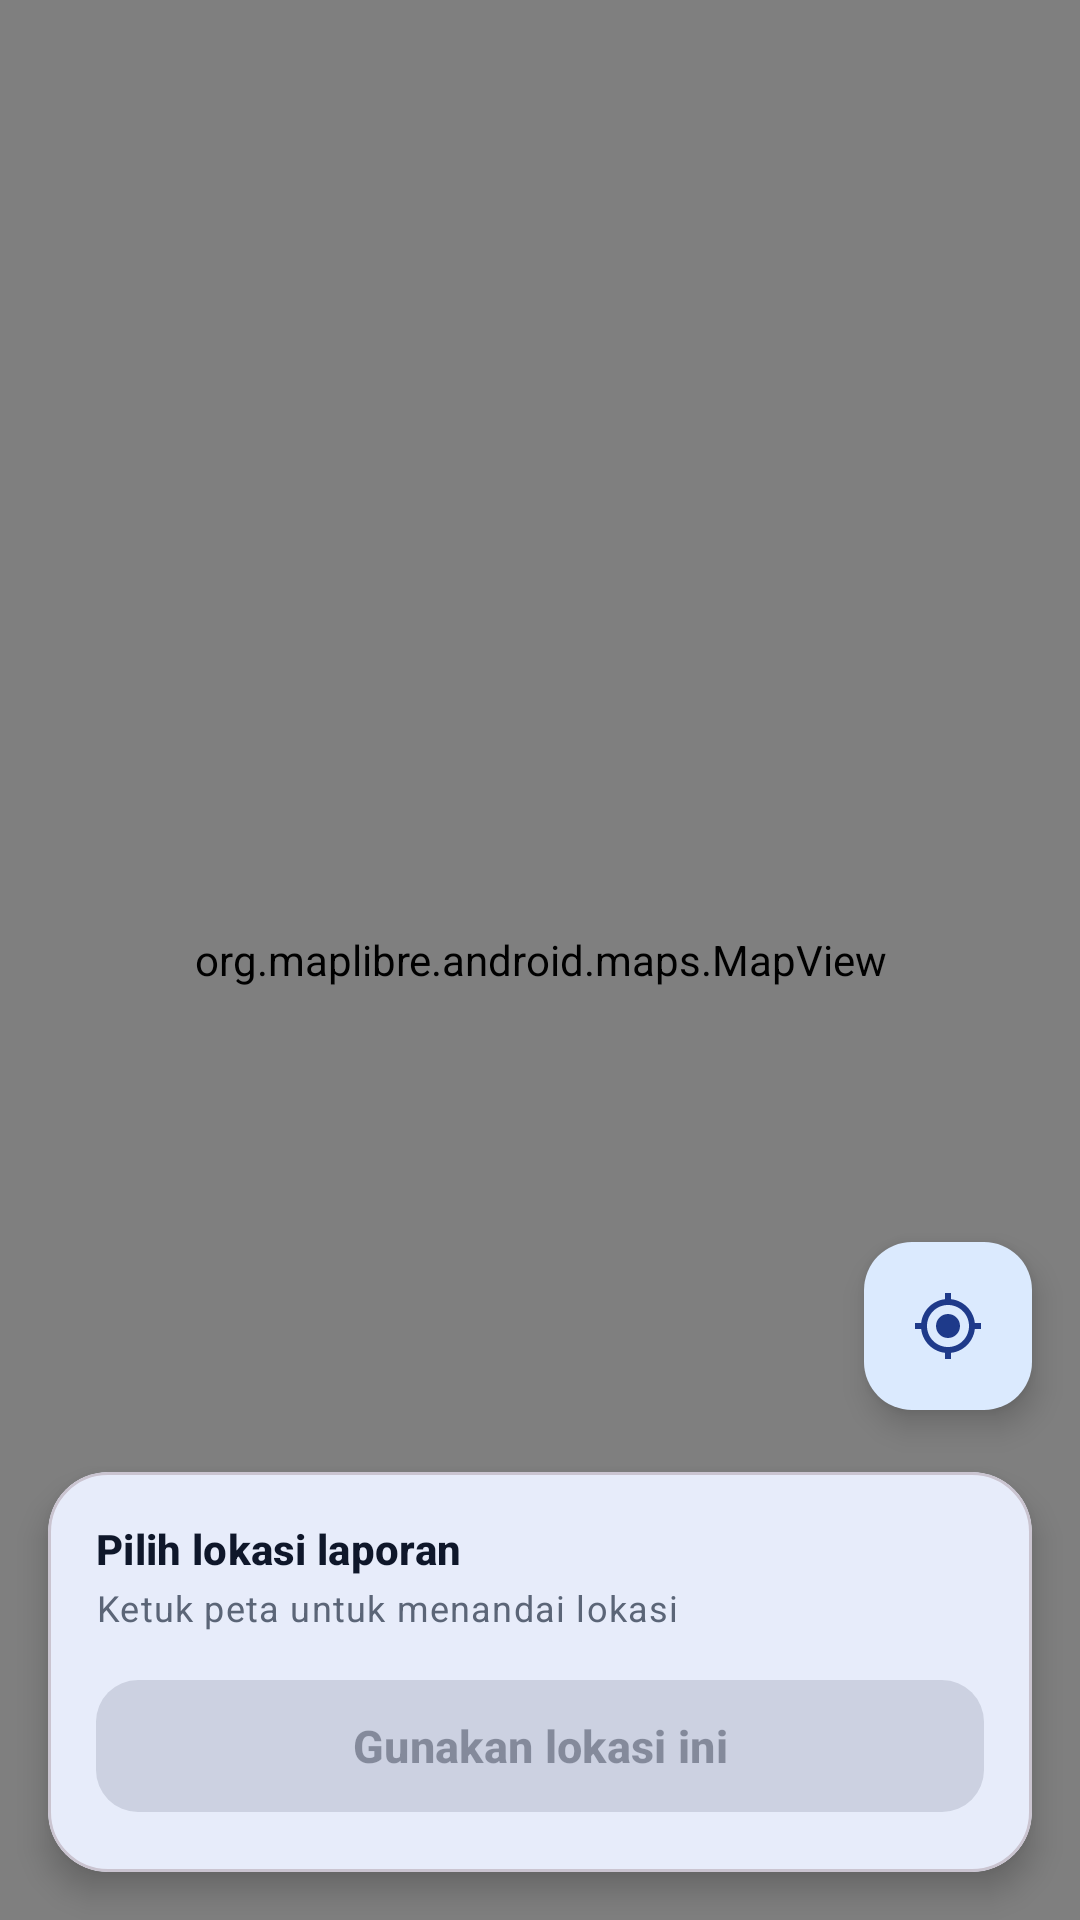

Named icons in this screenshot (1080px x 1920px) and their centers, [x,y]:
Lokasi saya: [948,1326]
